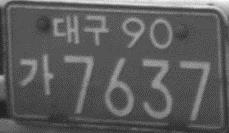0: (150, 16, 173, 50)
3: (140, 57, 173, 120)
6: (103, 56, 135, 117)
7: (176, 58, 212, 122), (60, 53, 96, 115)
9: (120, 15, 145, 50)
가: (17, 51, 55, 97)
대구_O: (51, 12, 110, 47)
